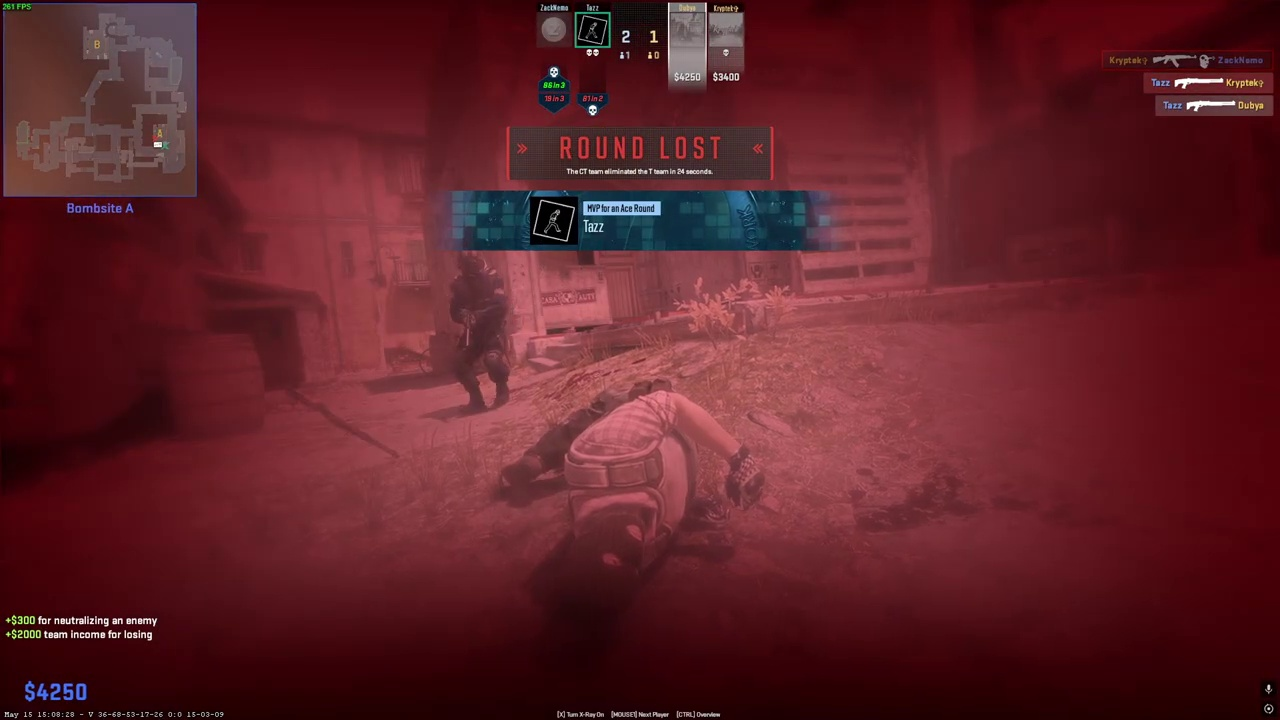CT: (449, 250, 511, 411)
